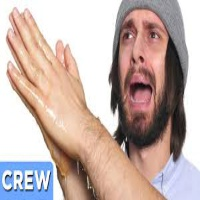ring: (1, 27, 46, 85)
